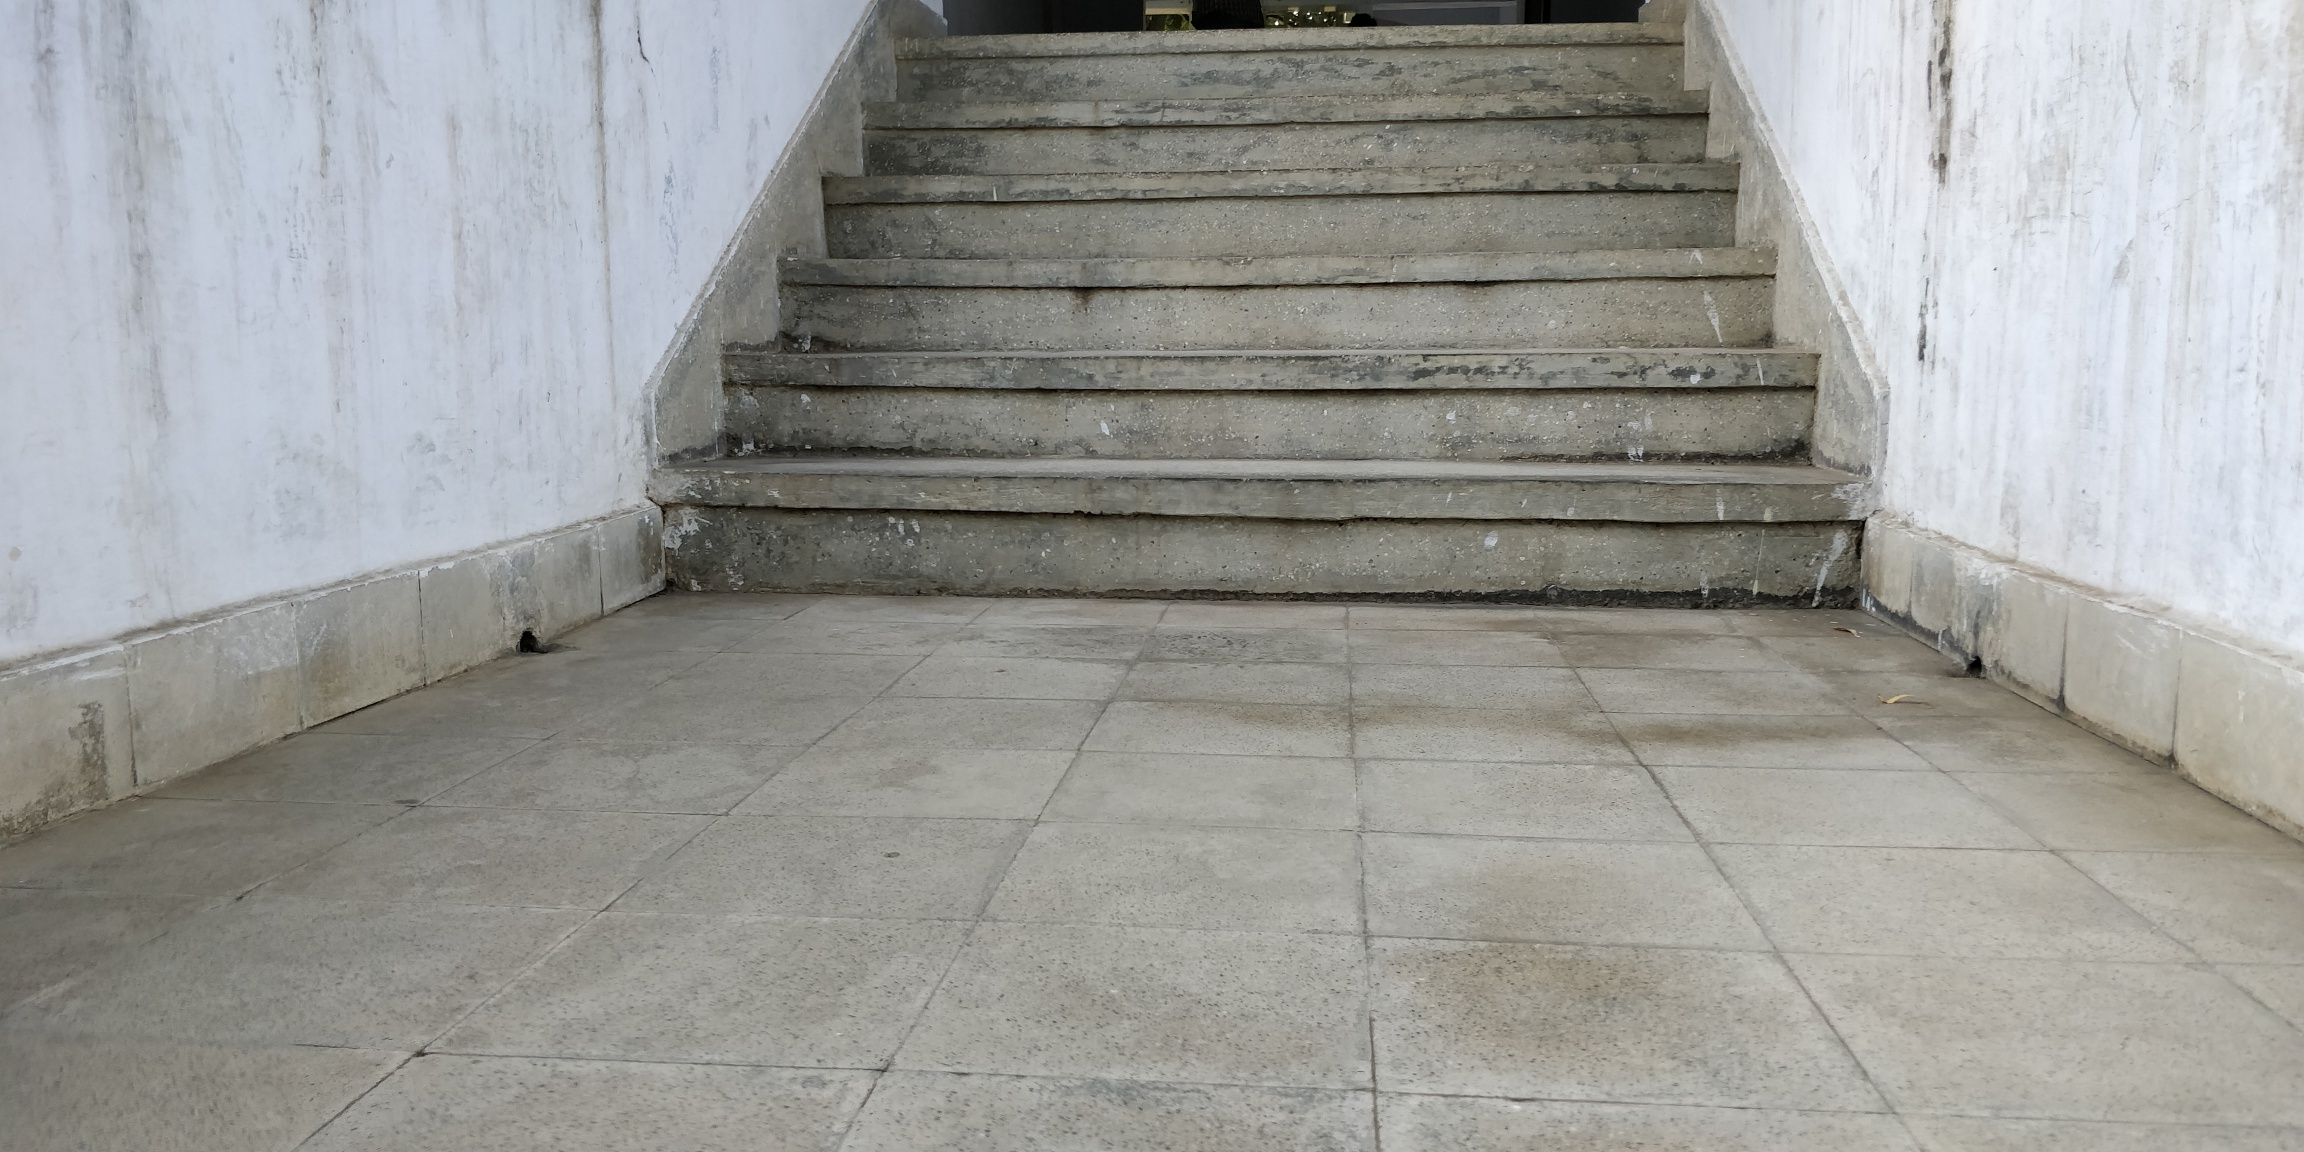stairs_up: (666, 32, 1904, 619)
